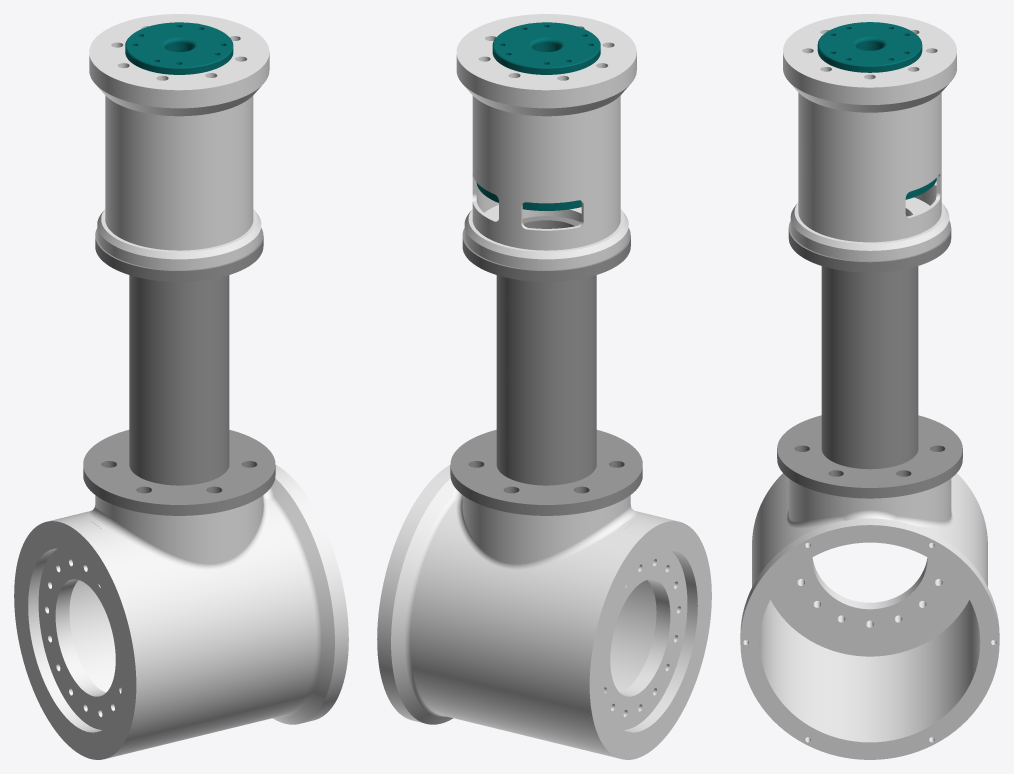
The model's file is J2J3_Shoulder.dae.
3 views of the same model, side by side, from view 1: azimuth 30°, elevation 25°; view 2: azimuth 150°, elevation 25°; view 3: azimuth 270°, elevation 25° (orthographic). The views are drawn at different scales.
Visible parts, largest first — view 1: J2J3_Shoulder; view 2: J2J3_Shoulder; view 3: J2J3_Shoulder.
Boxes of the visible parts, left/top/right/bottom form: J2J3_Shoulder: left=14, top=14, right=348, bottom=759; J2J3_Shoulder: left=377, top=14, right=711, bottom=759; J2J3_Shoulder: left=740, top=14, right=999, bottom=759.
Bounding box in the file's own units: 0.119 × 0.134 × 0.381.
